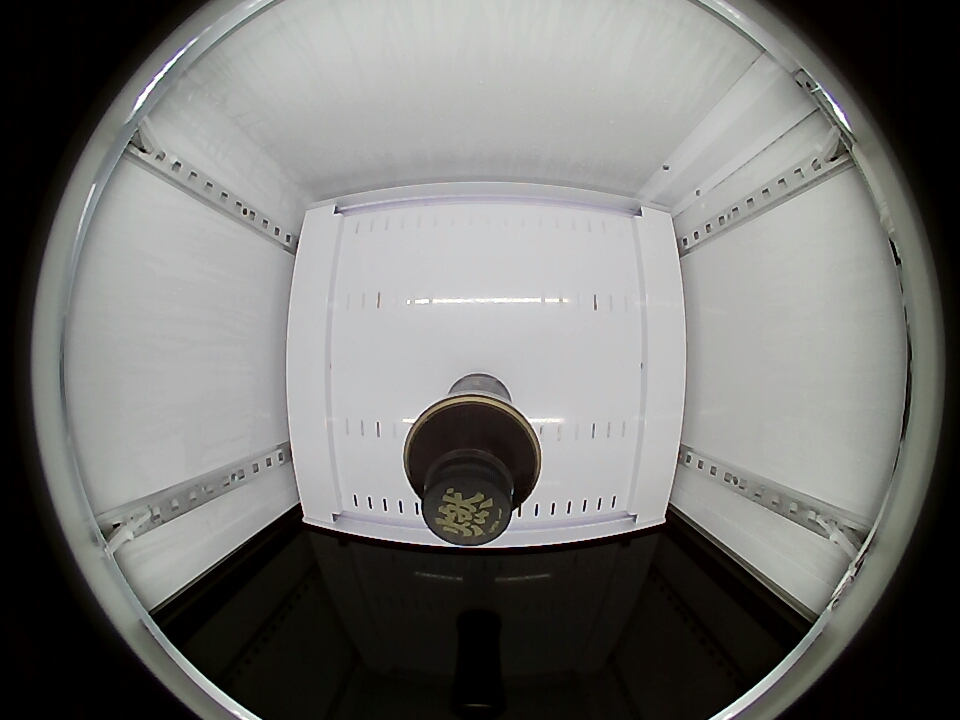rancha-1: (403, 388, 542, 545)
